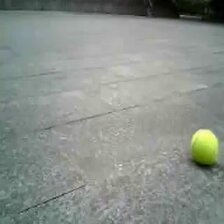tennis: (190, 129, 217, 163)
